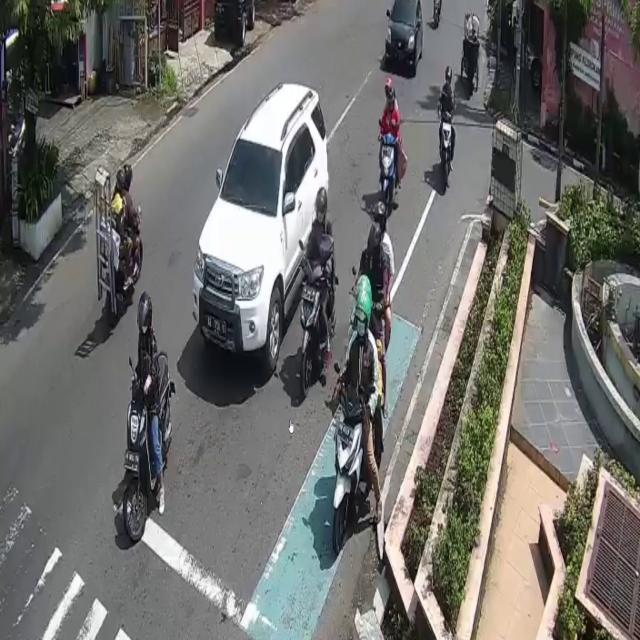bus: (128, 350, 174, 541), (300, 235, 335, 396), (334, 386, 366, 552), (121, 207, 142, 280), (439, 108, 453, 186), (381, 130, 393, 212)
motorcycle: (192, 80, 328, 374), (386, 0, 422, 75)
